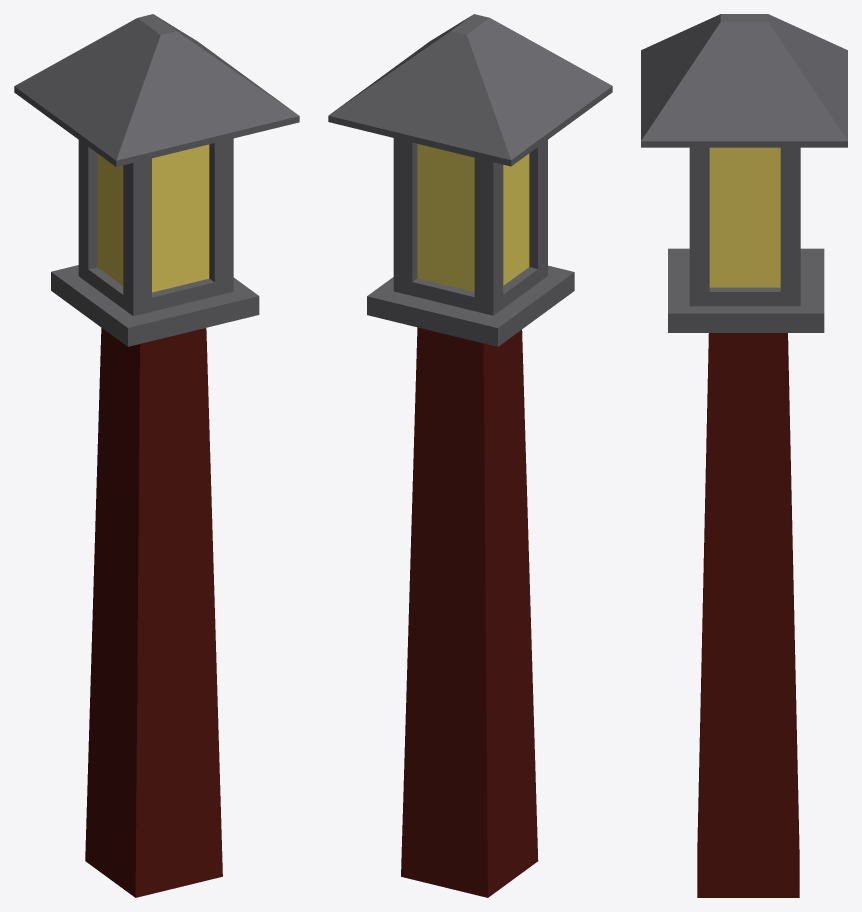
The model's file is column_with_lantern.fbx.
3 views of the same model, side by side, from view 1: azimuth 30°, elevation 25°; view 2: azimuth 150°, elevation 25°; view 3: azimuth 270°, elevation 25° (orthographic).
Parts seen in each view (by area): view 1: column_with_lantern; view 2: column_with_lantern; view 3: column_with_lantern.
Boxes of the visible parts, bbox=[...] form: column_with_lantern: bbox=[14, 14, 299, 897]; column_with_lantern: bbox=[328, 14, 612, 897]; column_with_lantern: bbox=[641, 14, 847, 897].
Bounding box in the file's own units: 58.94 × 260 × 56.69.
